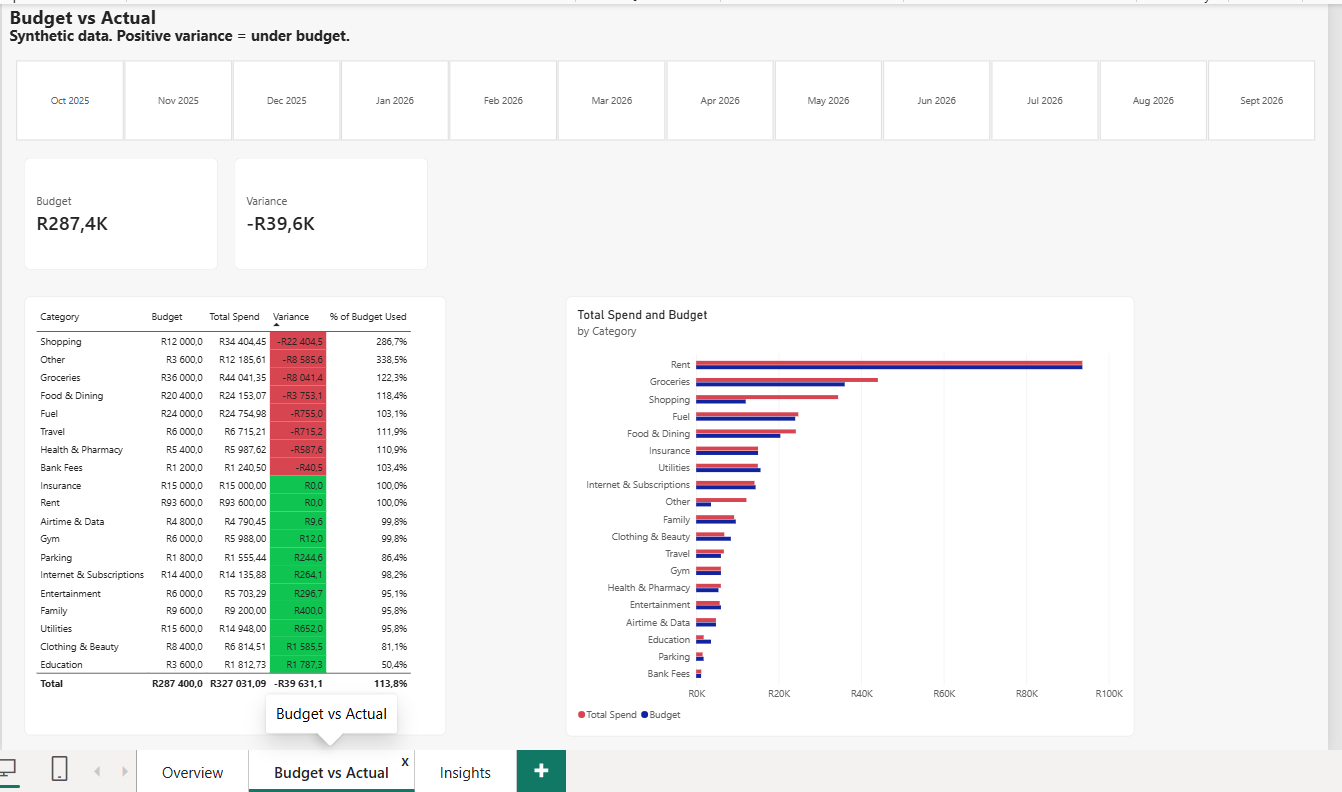

What the dashboard file says about the page in this screenshot:
{"tool":"powerbi","page":{"name":"Budget vs Actual","canvas":[1920,1080],"ordinal":1},"visuals":[{"type":"cardVisual","fields":{"Data":["transactions_synthetic.Budget"]},"box":[32.5,222.5,280,162.5],"z":0},{"type":"cardVisual","fields":{"Data":["transactions_synthetic.Variance"]},"box":[337.5,222.5,280,162.5],"z":1000},{"type":"clusteredBarChart","fields":{"Category":["budgets_synthetic.category"],"Y":["transactions_synthetic.Total Spend","transactions_synthetic.Budget"]},"box":[816.7,423.3,823.3,636.7],"z":2000},{"type":"tableEx","fields":{"Values":["budgets_synthetic.category","transactions_synthetic.Budget","transactions_synthetic.Total Spend","transactions_synthetic.Variance","transactions_synthetic.% of Budget Used"]},"box":[32.9,424,610,635],"z":3000},{"type":"slicer","fields":{"Values":["Date.Month Year"]},"box":[0,80,1920.1,119.4],"z":4000},{"type":"textbox","box":[10,0,995,60],"z":5000},{"type":"textbox","box":[10,30,995,50],"z":6000}]}

Visuals, with their boxes on the page's 1920x1080 design canvas (x1, y1, x2, y2). These are canvas units, not pixel positions in the 1342x792 screenshot, which may show the page scaled, cropped or inside an application window:
cardVisual - transactions_synthetic.Budget: {"left": 32, "top": 222, "right": 312, "bottom": 385}
cardVisual - transactions_synthetic.Variance: {"left": 338, "top": 222, "right": 618, "bottom": 385}
clusteredBarChart - budgets_synthetic.category x transactions_synthetic.Total Spend: {"left": 817, "top": 423, "right": 1640, "bottom": 1060}
tableEx - budgets_synthetic.category x transactions_synthetic.Budget: {"left": 33, "top": 424, "right": 643, "bottom": 1059}
slicer - Date.Month Year: {"left": 0, "top": 80, "right": 1920, "bottom": 199}
textbox: {"left": 10, "top": 0, "right": 1005, "bottom": 60}
textbox: {"left": 10, "top": 30, "right": 1005, "bottom": 80}
